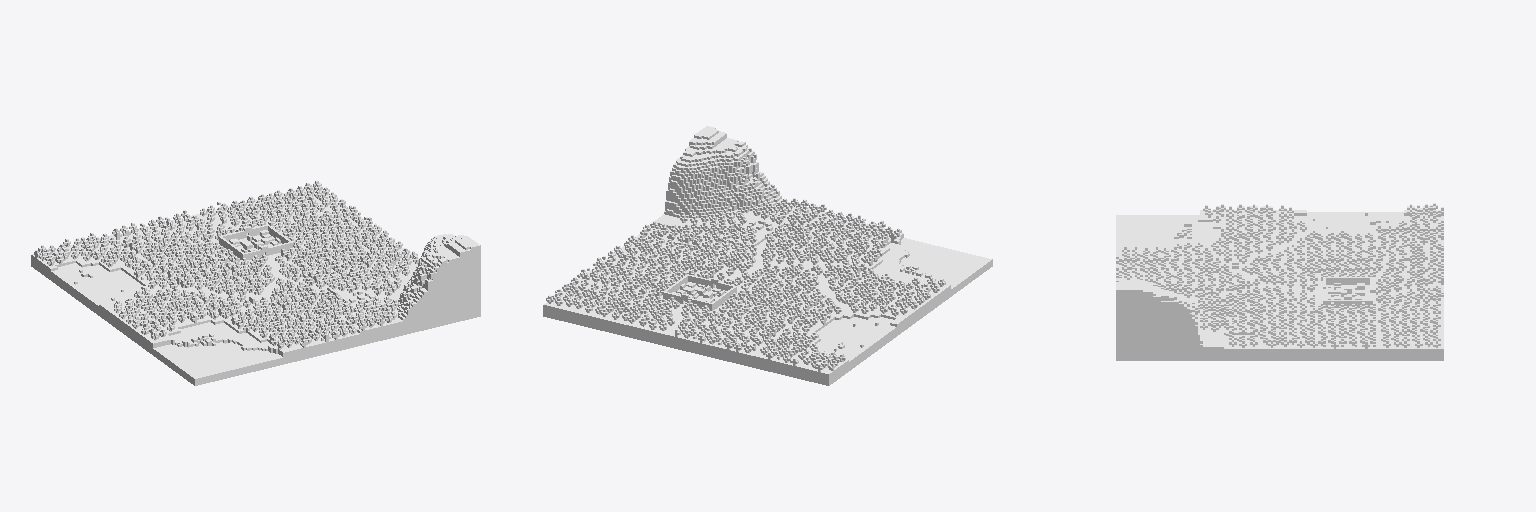
The model's file is mapa2.obj.
The picture shows the model from 3 angles: view 1: azimuth 30°, elevation 25°; view 2: azimuth 150°, elevation 25°; view 3: azimuth 270°, elevation 25°; orthographic projection.
Visible parts, largest first — view 1: object 1; view 2: object 1; view 3: object 1.
Boxes of the visible parts, box(x1,y1,x2,y2) form: object 1: box(31, 180, 480, 385); object 1: box(543, 126, 992, 385); object 1: box(1116, 203, 1443, 360).
Bounding box in the file's own units: 12.6 × 3 × 12.5.